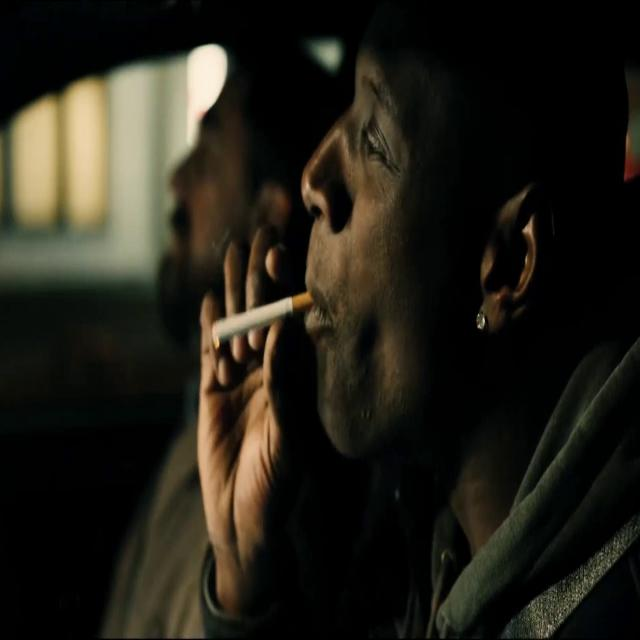Smooking: (198, 284, 311, 364)
